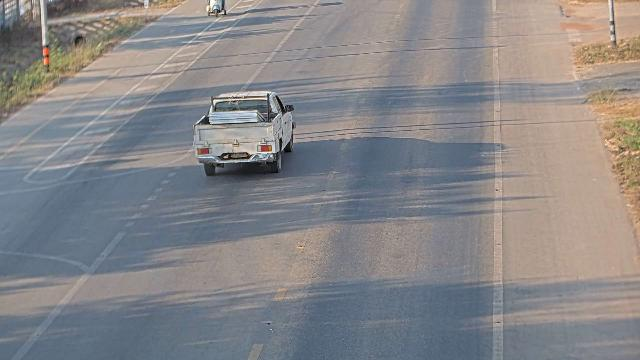pickup-truck: (191, 90, 296, 176)
